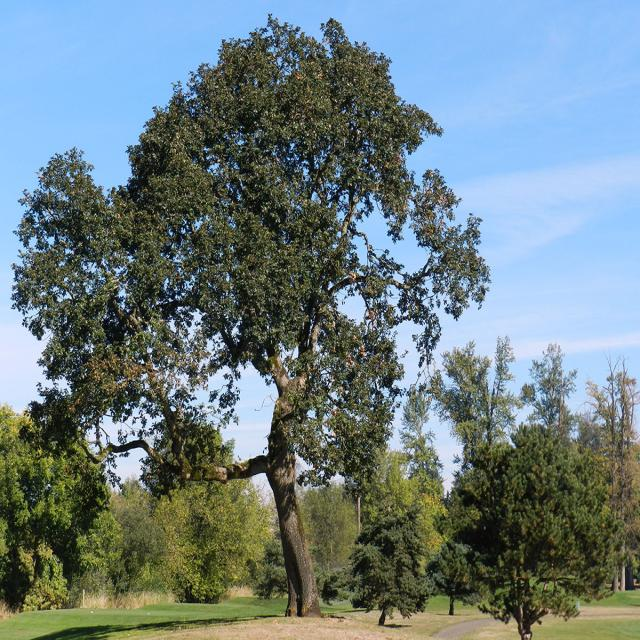Quercus garryana: (10, 13, 492, 625)
